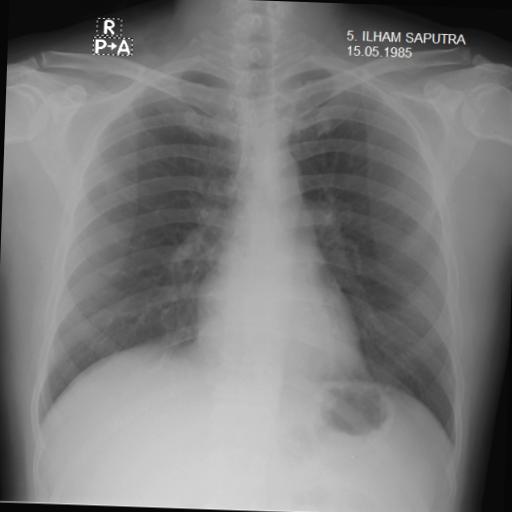normal: (18, 24, 492, 462)
